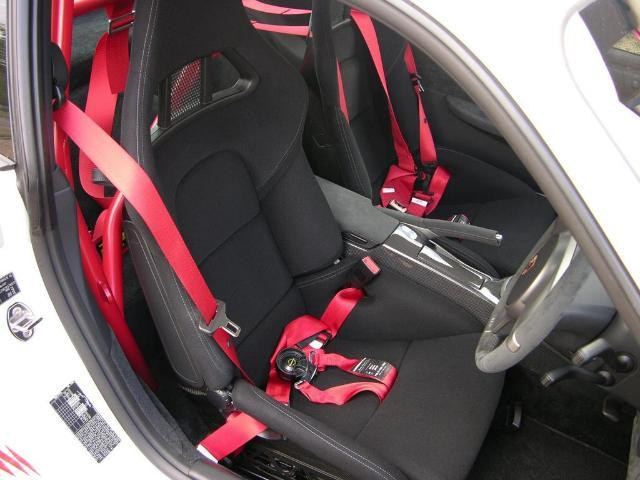Seatbelt: (50, 95, 258, 385), (241, 0, 449, 224), (194, 282, 398, 450)
